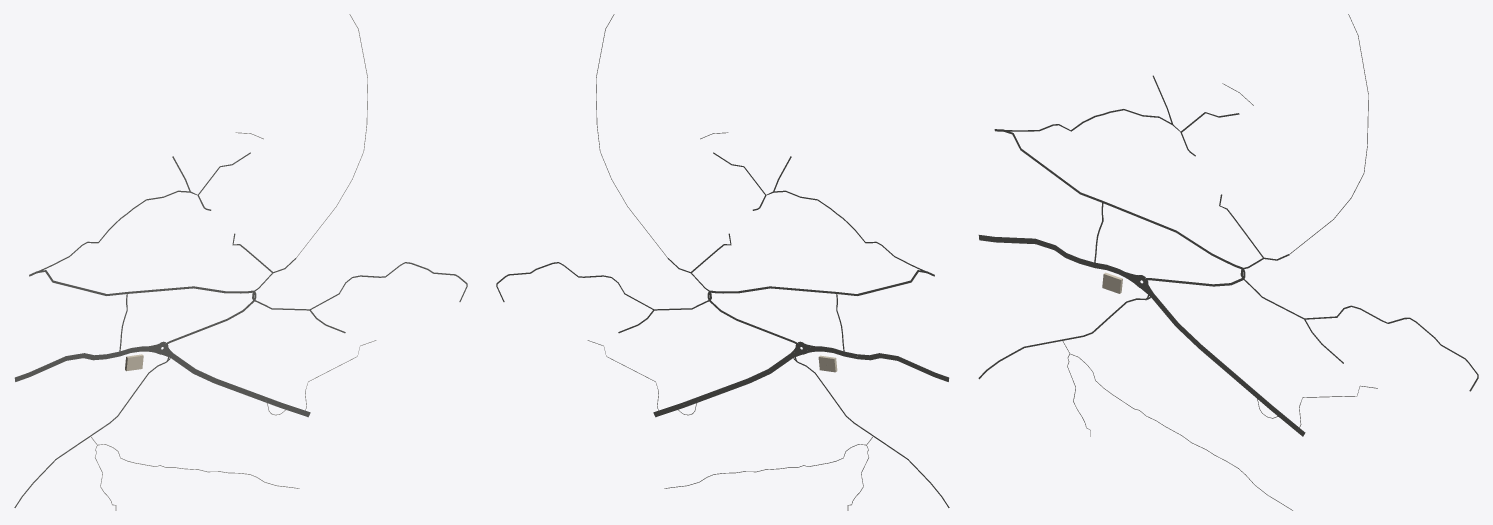
The model's file is historic-palestine-12_36_3535_3301.glb.
The picture shows the model from 3 angles, left to right: view 1: azimuth 30°, elevation 25°; view 2: azimuth 150°, elevation 25°; view 3: azimuth 330°, elevation 25°; orthographic projection. The views are drawn at different scales.
Parts seen in each view (by area): view 1: Road 89.001, Road .011, Road 89.008; view 2: Road 89.001, Road .011, Road 89.008; view 3: Road 89.001, Road .011, Road 89.008, Road .004.
Boxes of the visible parts, x1,y1,x2,y2 form: Road 89.001: (14,346,147,381); Road .011: (29,270,253,295); Road 89.008: (171,353,266,401); Road 89.001: (816,346,949,381); Road .011: (710,270,934,295); Road 89.008: (697,353,792,401); Road 89.001: (978,235,1124,276); Road .011: (994,129,1242,269); Road 89.008: (1151,293,1256,395); Road .004: (1244,279,1478,391).
Size of the model in its own units: 1148 by 1119 by 8.7.
